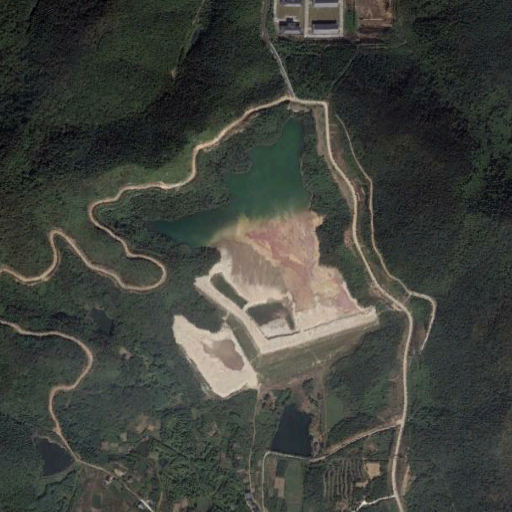tp: (147, 115, 379, 386)
